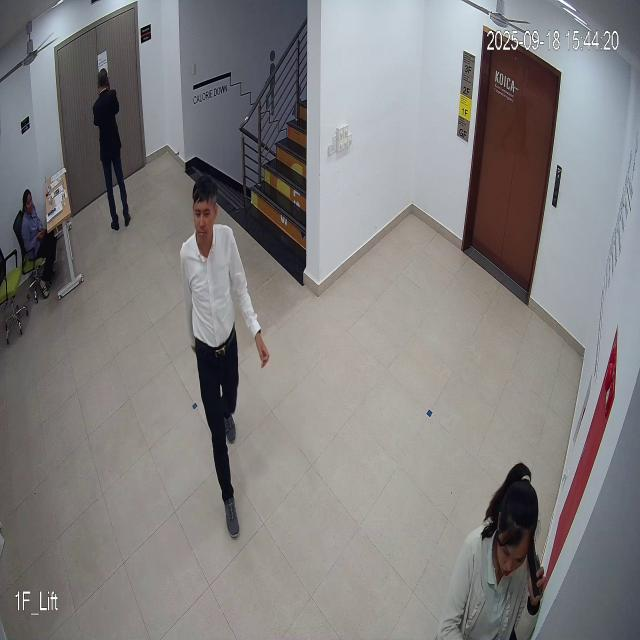face: (187, 174, 221, 247)
